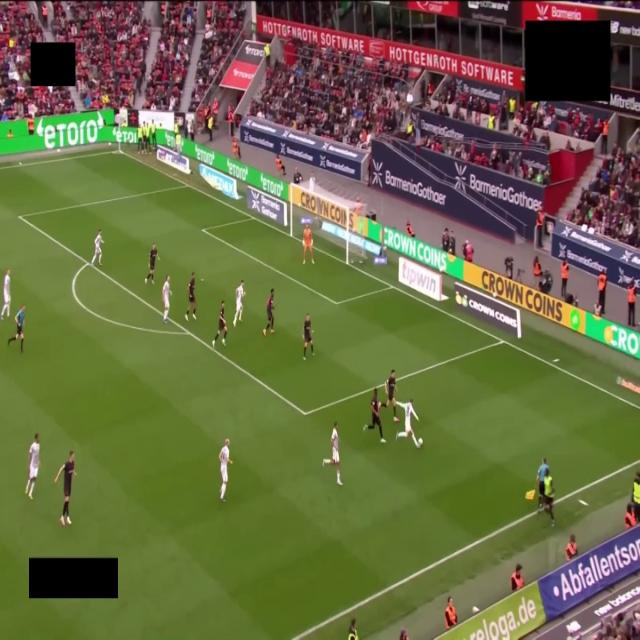ball: (418, 438, 422, 446)
player: (55, 451, 75, 526), (323, 422, 342, 485), (364, 388, 385, 443), (396, 399, 420, 447), (25, 433, 39, 498), (219, 439, 232, 502), (384, 370, 399, 422), (212, 301, 227, 348), (145, 243, 159, 283), (185, 272, 196, 321), (263, 288, 274, 335), (303, 313, 314, 360), (233, 280, 244, 327), (0, 270, 10, 319), (162, 275, 171, 323), (91, 230, 103, 265), (303, 225, 314, 263)
referee: (8, 305, 25, 352)
